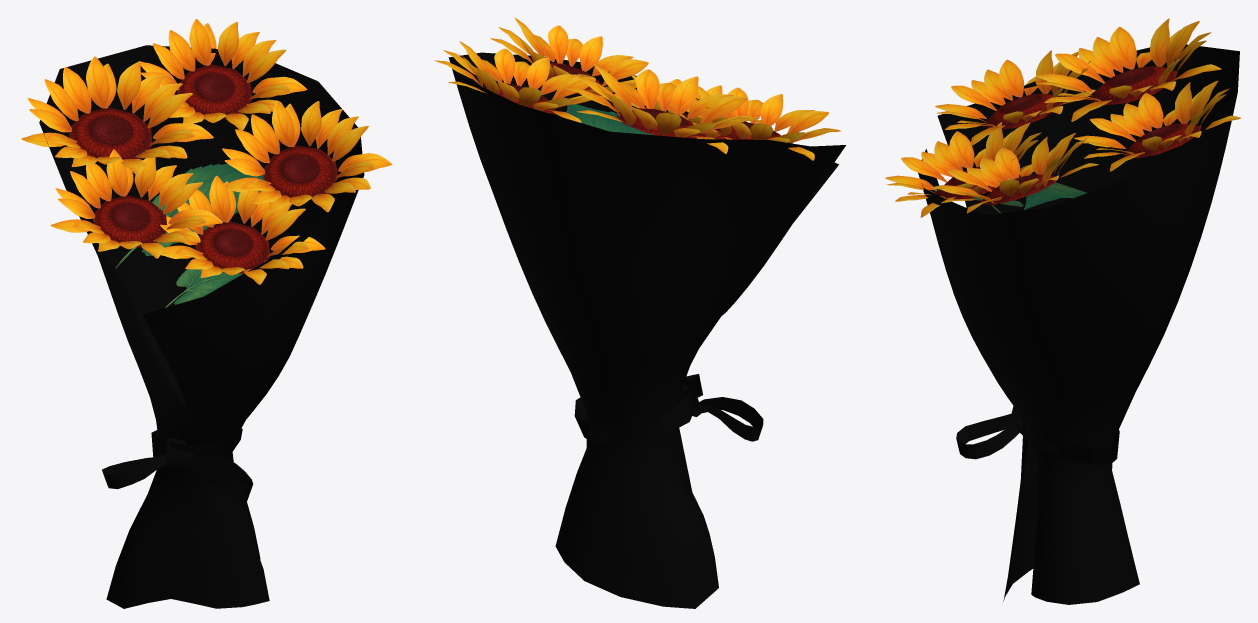
The model's file is SM_向日葵花束.fbx.
3 renders of one model, left to right at view 1: azimuth 30°, elevation 25°; view 2: azimuth 150°, elevation 25°; view 3: azimuth 270°, elevation 25°, orthographic. The views are drawn at different scales.
Parts seen in each view (by area): view 1: polySurface88; view 2: polySurface88; view 3: polySurface88.
Boxes of the visible parts, x1=… form: polySurface88: x1=21, y1=18, x2=392, y2=608; polySurface88: x1=434, y1=17, x2=845, y2=608; polySurface88: x1=885, y1=18, x2=1240, y2=604.
Bounding box in the file's own units: 9.55 × 14.67 × 8.98.
